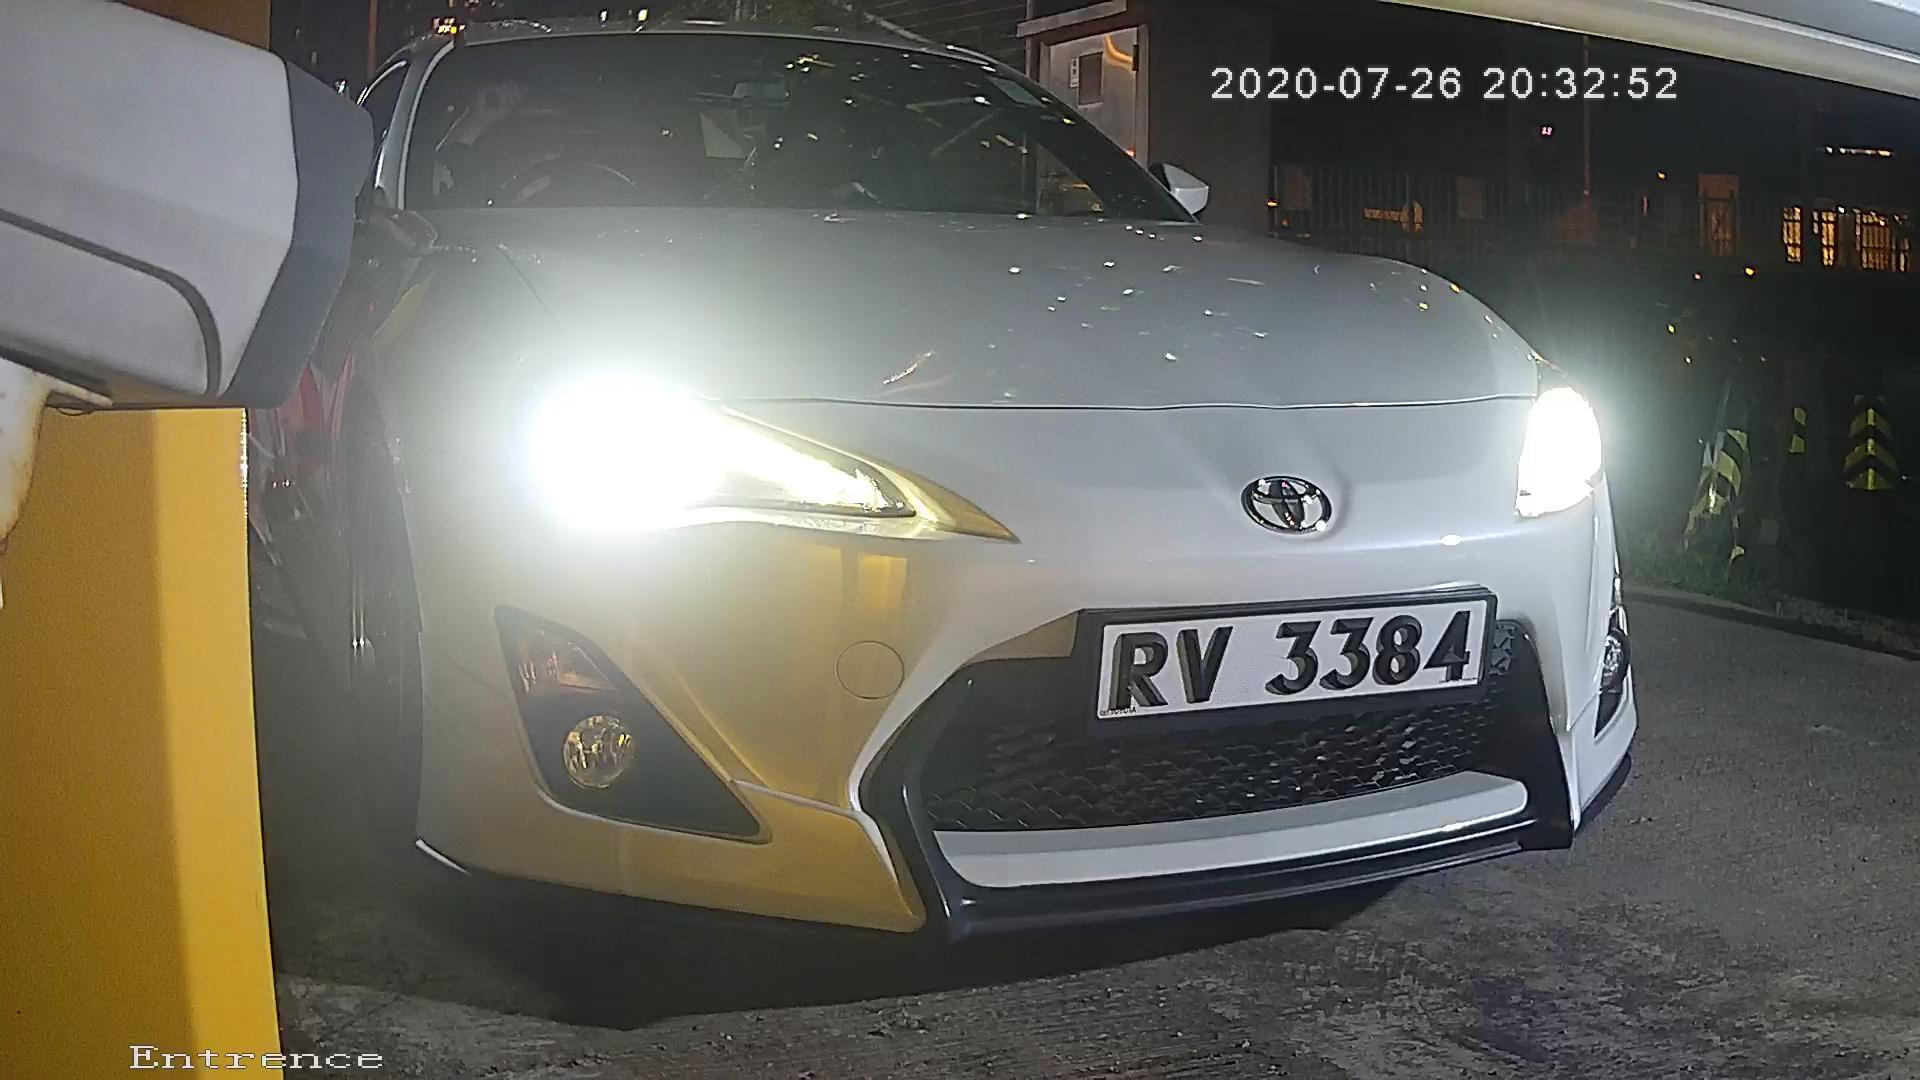Car: (112, 44, 1749, 955)
License Plate: (1081, 584, 1501, 733)
